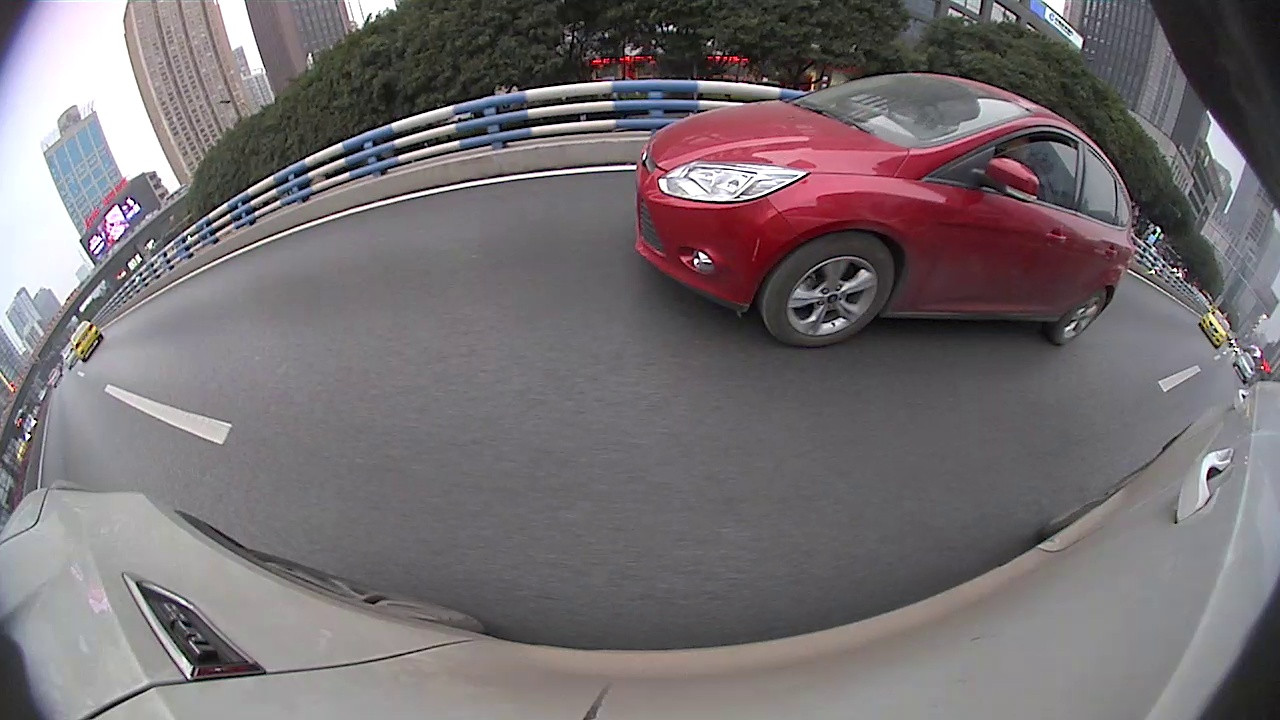car: (634, 70, 1134, 351), (68, 318, 105, 366), (1200, 306, 1230, 350)
front: (761, 234, 898, 348)
rear: (1047, 290, 1114, 345)
